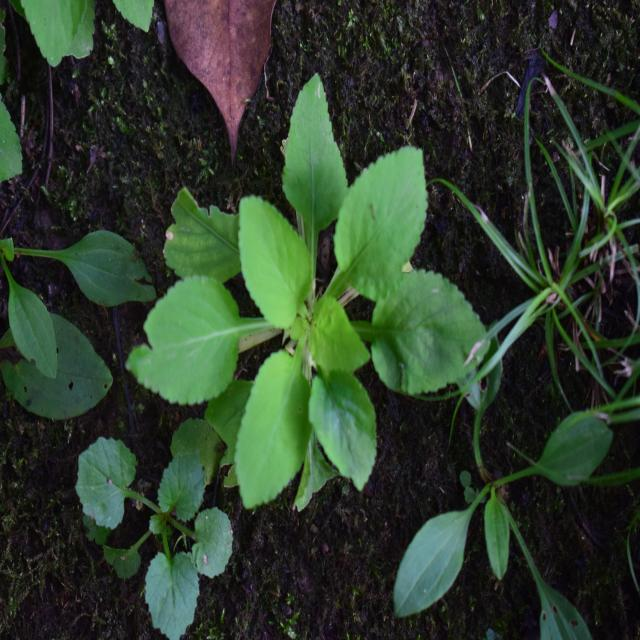Viola: (177, 105, 445, 498)
